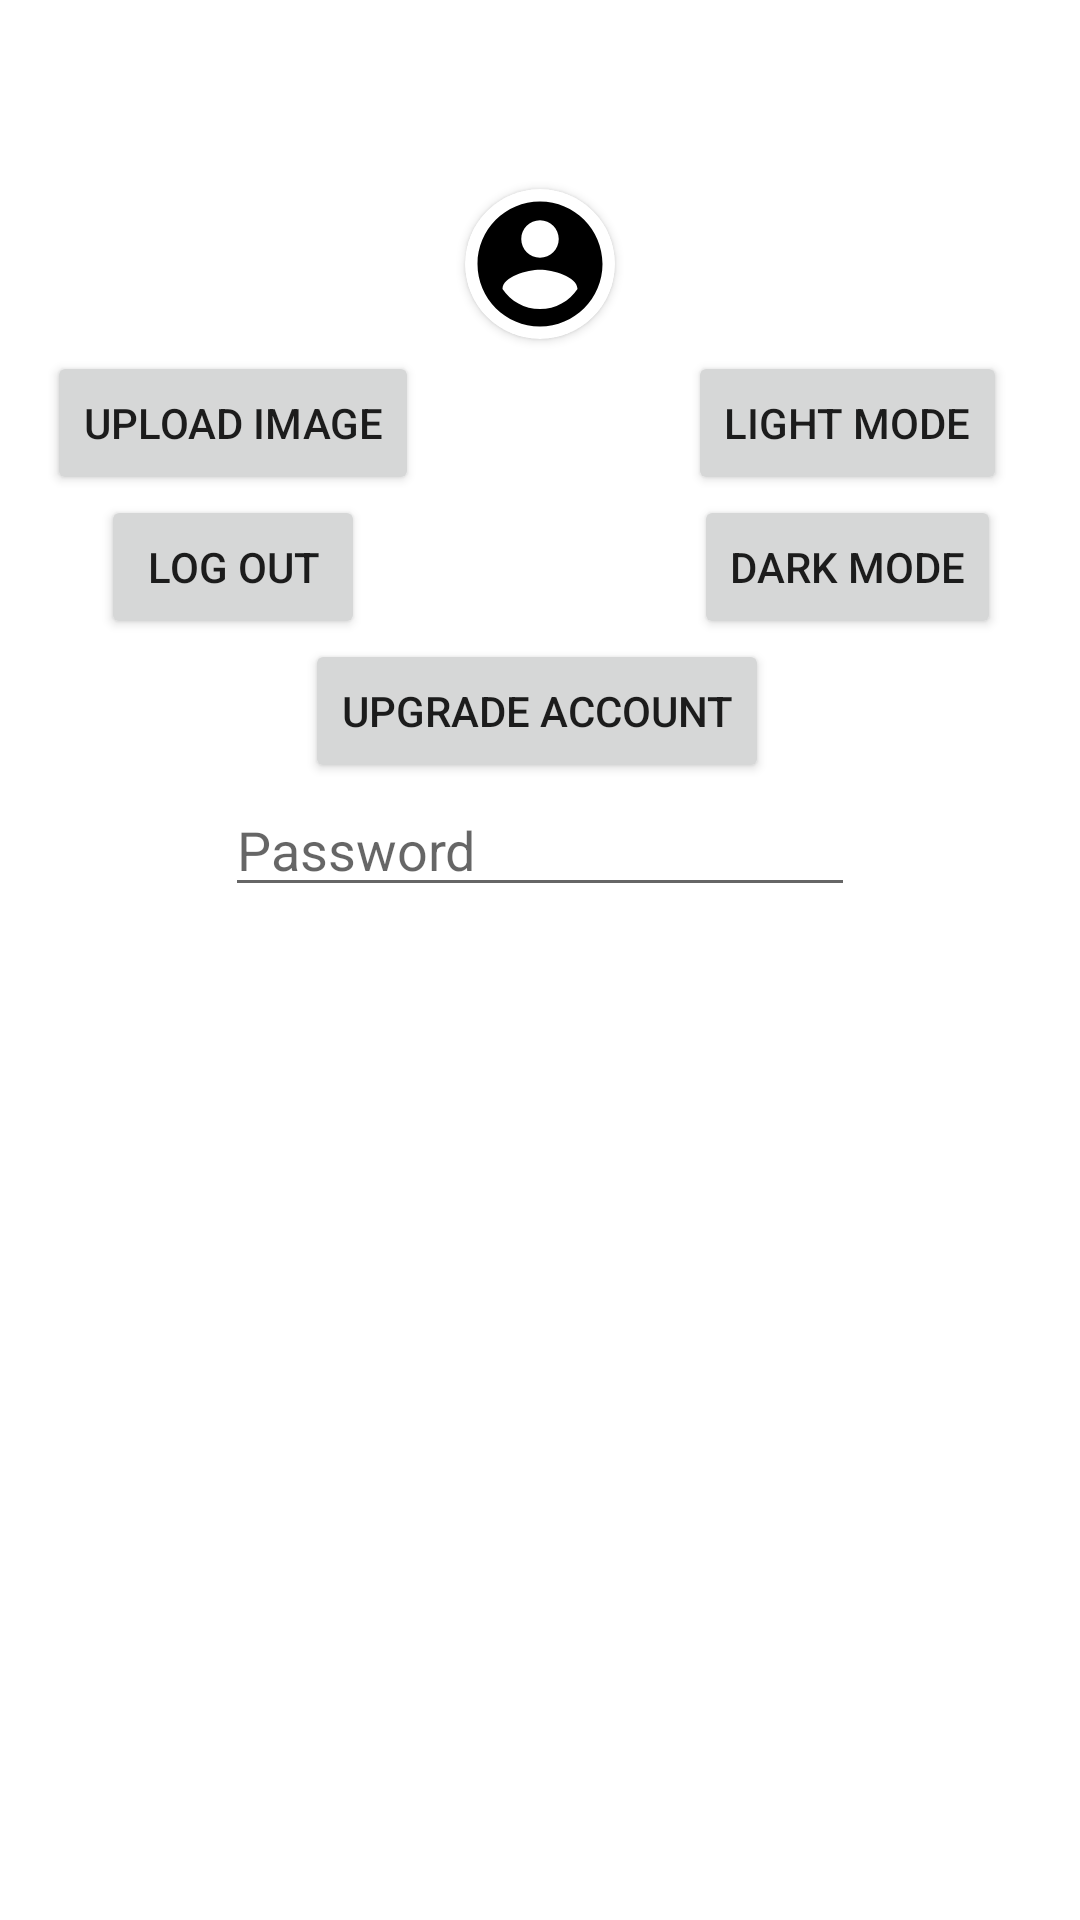

Where icons sit on this 1080w x 1920h app screen, as BBox(x1, y1, x2, y2):
account: BBox(465, 201, 615, 339)
